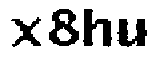8: (48, 7, 79, 51)
h: (81, 5, 114, 52)
u: (116, 15, 148, 53)
x: (10, 18, 43, 49)
